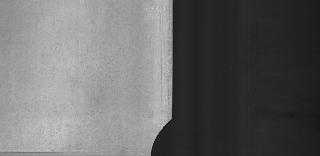welding line: (1, 148, 161, 156)
